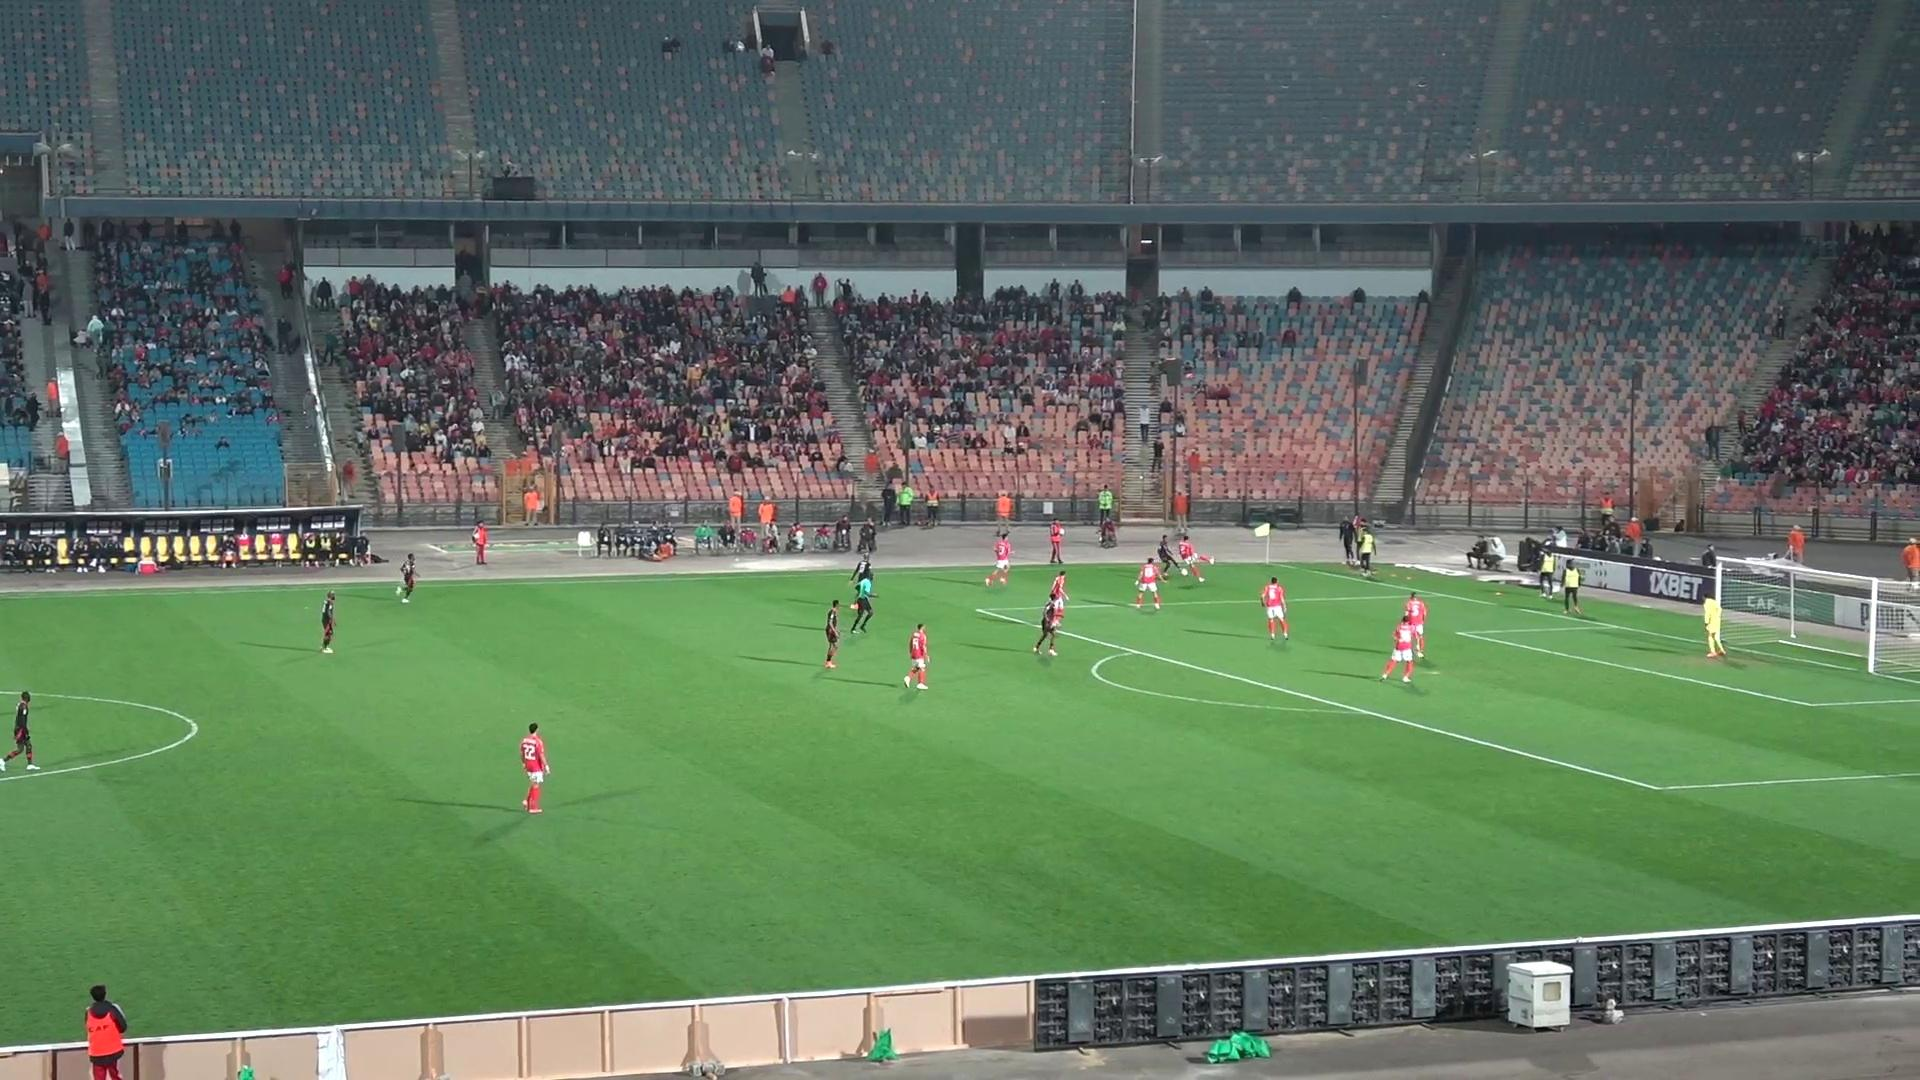Ball: (1178, 562, 1203, 583)
GK1: (1701, 589, 1727, 659)
Refree: (851, 562, 877, 633)
Team1: (1379, 592, 1427, 684), (520, 723, 550, 814), (1259, 576, 1288, 641), (1175, 531, 1212, 582), (902, 625, 930, 688), (984, 527, 1013, 585), (1133, 556, 1162, 608), (1050, 568, 1069, 618)
Team2: (0, 692, 38, 770), (1033, 591, 1065, 655), (822, 600, 841, 669), (318, 591, 338, 651), (849, 535, 873, 583), (1154, 531, 1180, 574), (396, 553, 417, 603)
